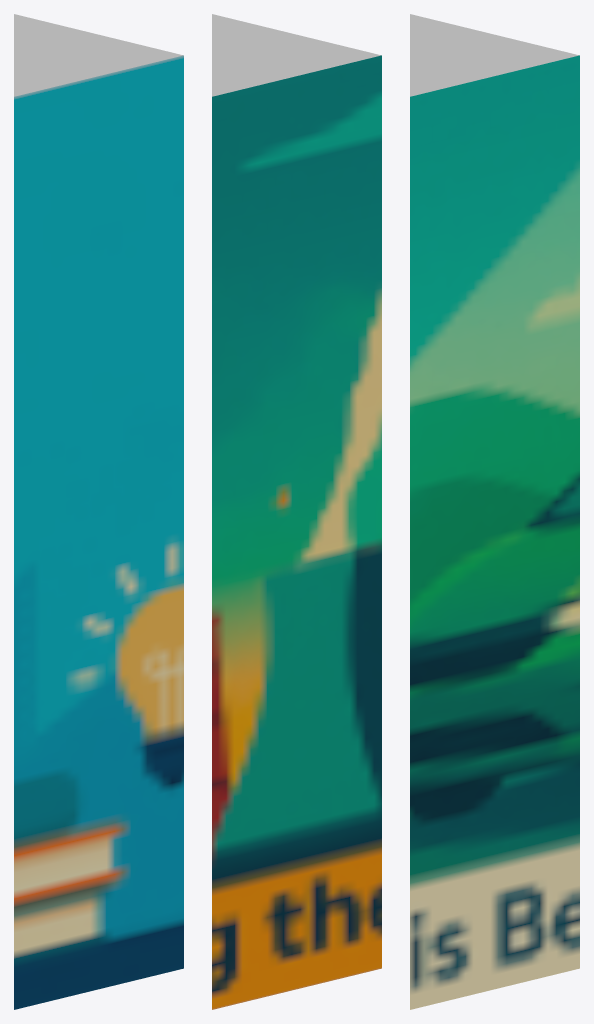
The model's file is Billboard_2x1_Piece_06.fbx.
3 renders of one model, left to right at view 1: azimuth 30°, elevation 25°; view 2: azimuth 150°, elevation 25°; view 3: azimuth 270°, elevation 25°, orthographic.
Parts seen in each view (by area): view 1: Billboard_2x1_Piece_06; view 2: Billboard_2x1_Piece_06; view 3: Billboard_2x1_Piece_06.
Part boxes in pixels (box(x1,y1,x2,y2)): Billboard_2x1_Piece_06: box(14, 14, 183, 1009); Billboard_2x1_Piece_06: box(212, 14, 381, 1009); Billboard_2x1_Piece_06: box(410, 14, 579, 1009).
Bounding box in the file's own units: 119 × 103 × 610.
